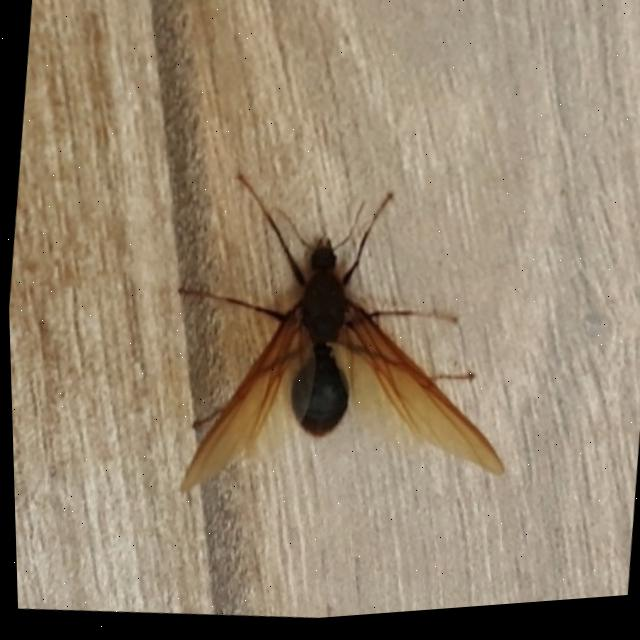Alive-Male-Alate: (150, 152, 536, 530)
